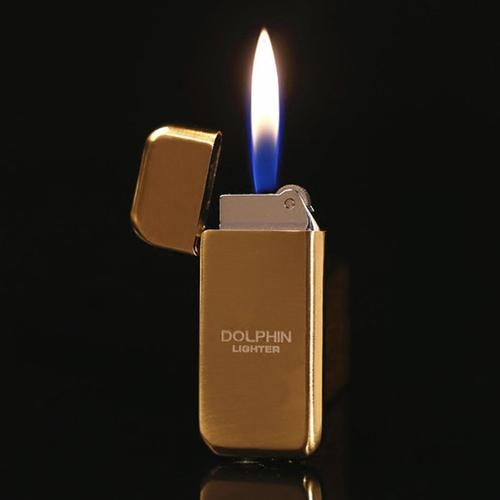Fire: (238, 26, 284, 195)
